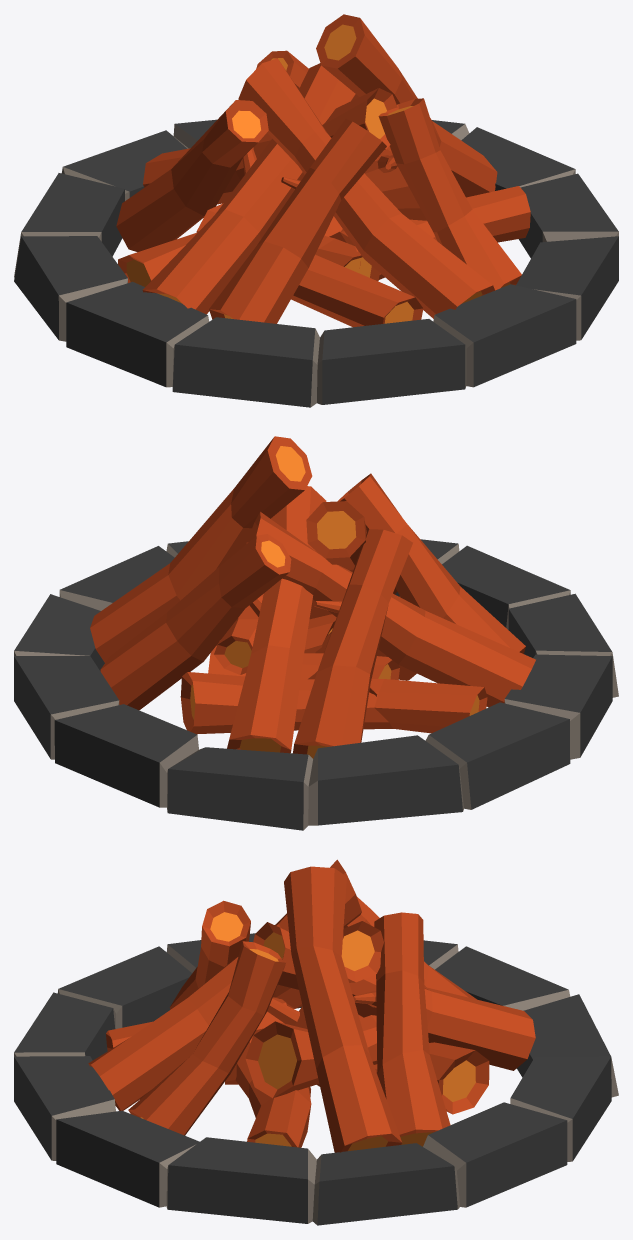
Rendered from wood_fire.glb.
The picture shows the model from 3 angles, top to bottom: view 1: azimuth 30°, elevation 25°; view 2: azimuth 150°, elevation 25°; view 3: azimuth 270°, elevation 25°; orthographic projection.
Parts seen in each view (by area): view 1: Item17; view 2: Item17; view 3: Item17.
Boxes of the visible parts, x1=… form: Item17: x1=14, y1=14, x2=618, y2=407; Item17: x1=14, y1=436, x2=618, y2=830; Item17: x1=14, y1=859, x2=618, y2=1225.
Size of what is drawn, in the model's own units: 0.6476 by 0.3131 by 0.6538.
1 material, 1 textured.
